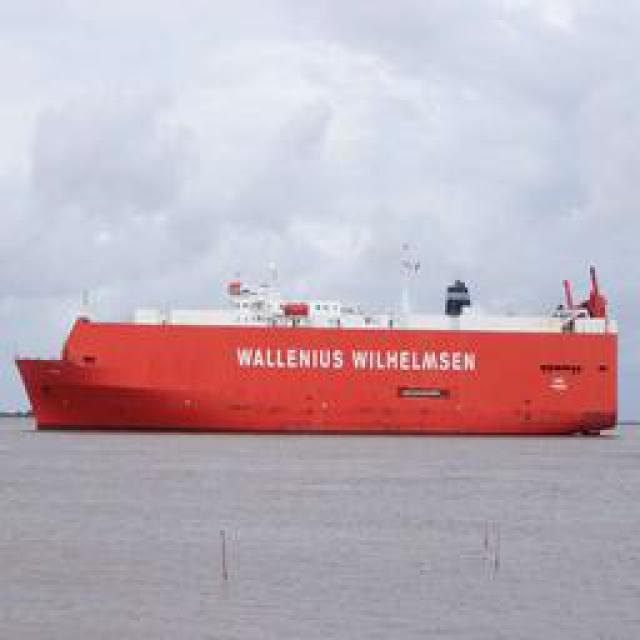Ship: (19, 254, 629, 439)
